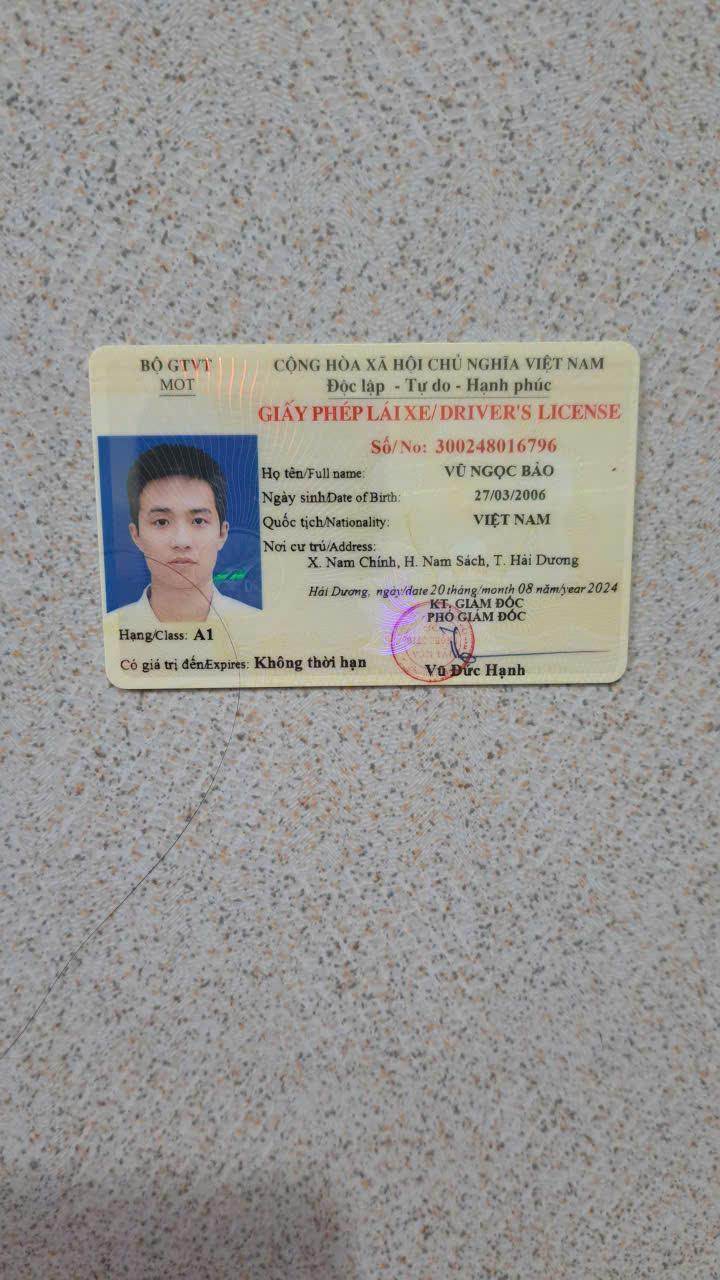gplx: (76, 329, 650, 698)
